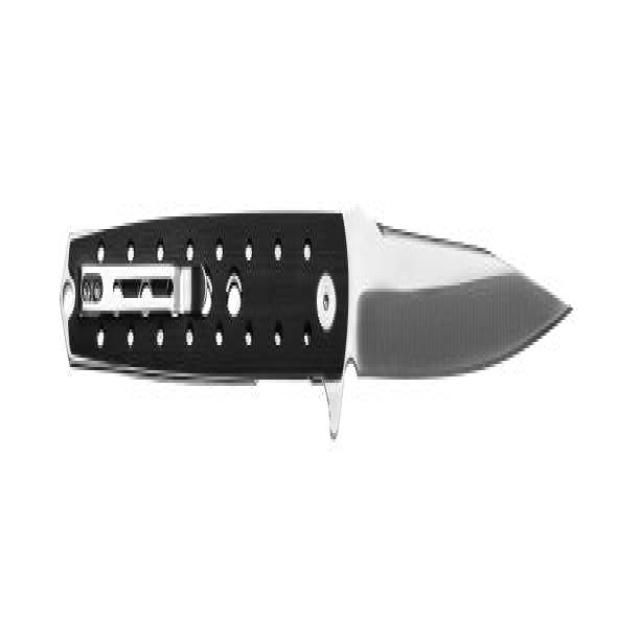knife: (52, 181, 577, 479)
